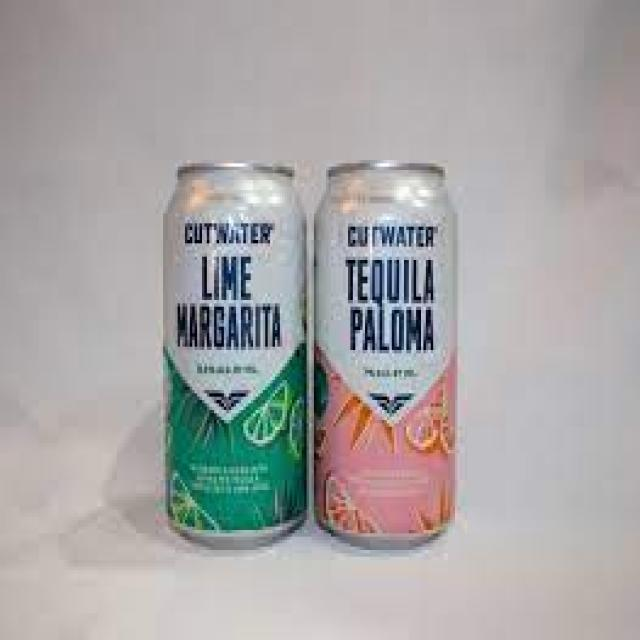Cans: (311, 153, 465, 557), (158, 157, 312, 553)
